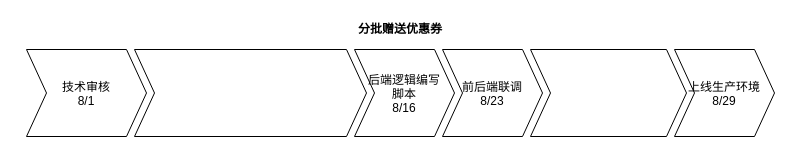
The diagram is 801 pixels wide and 153 high, and some of its shapes have lost their labels. Here are the shapes that lost their labels. From the top down, the centre of each, then its label:
At point (250, 92): "web接口开发 文档 本地测试 8/9".
At point (608, 92): "dev&uat测试&数据验证 8/28".
